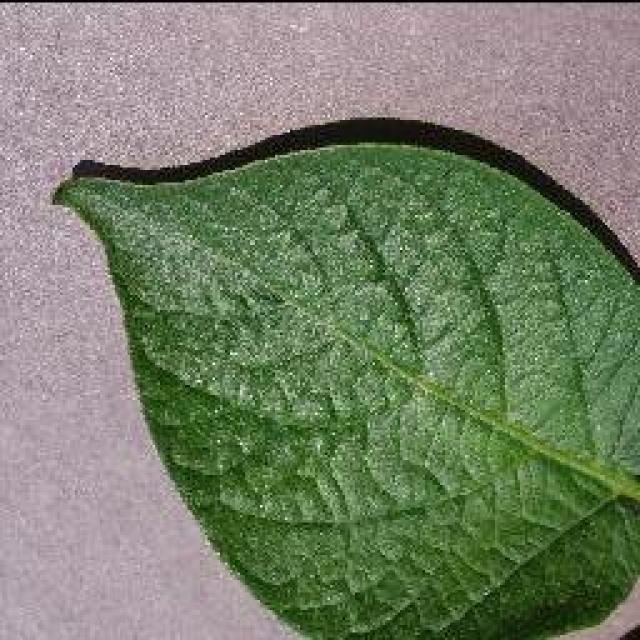Potato___healthy: (52, 140, 638, 638)
